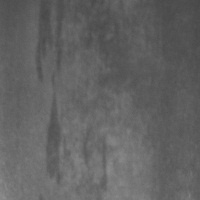inclusion: (45, 77, 75, 190), (32, 1, 68, 87), (81, 121, 114, 192)
